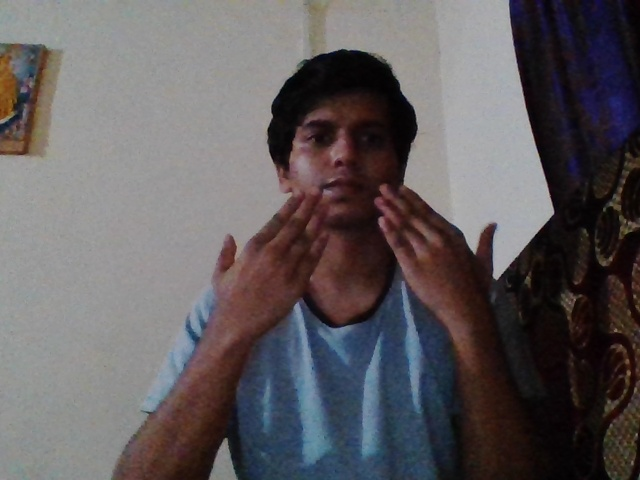Thank You: (204, 158, 518, 353)
